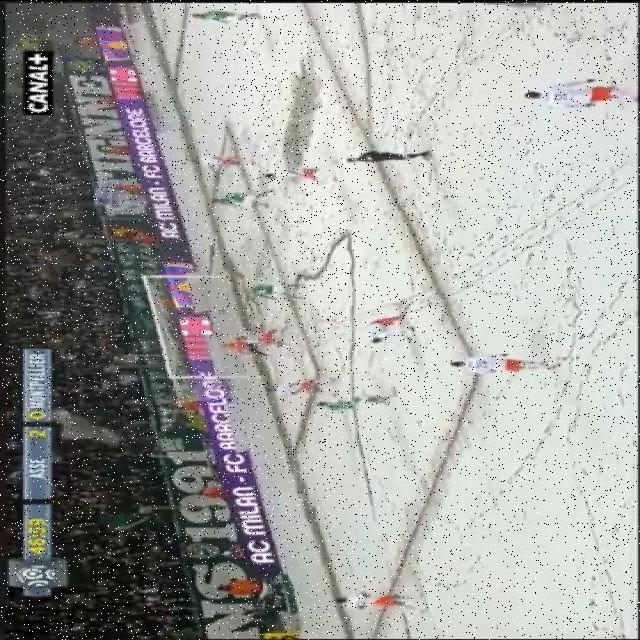goalkeeper: (204, 335, 269, 359)
player: (513, 70, 636, 118), (436, 345, 580, 383), (307, 377, 397, 415), (317, 587, 437, 614), (352, 309, 422, 353), (181, 2, 277, 29), (196, 185, 278, 211), (260, 368, 336, 396), (251, 161, 327, 185), (240, 278, 302, 306), (186, 146, 248, 171), (236, 325, 298, 345), (261, 395, 275, 396)
referee: (346, 144, 438, 176)
